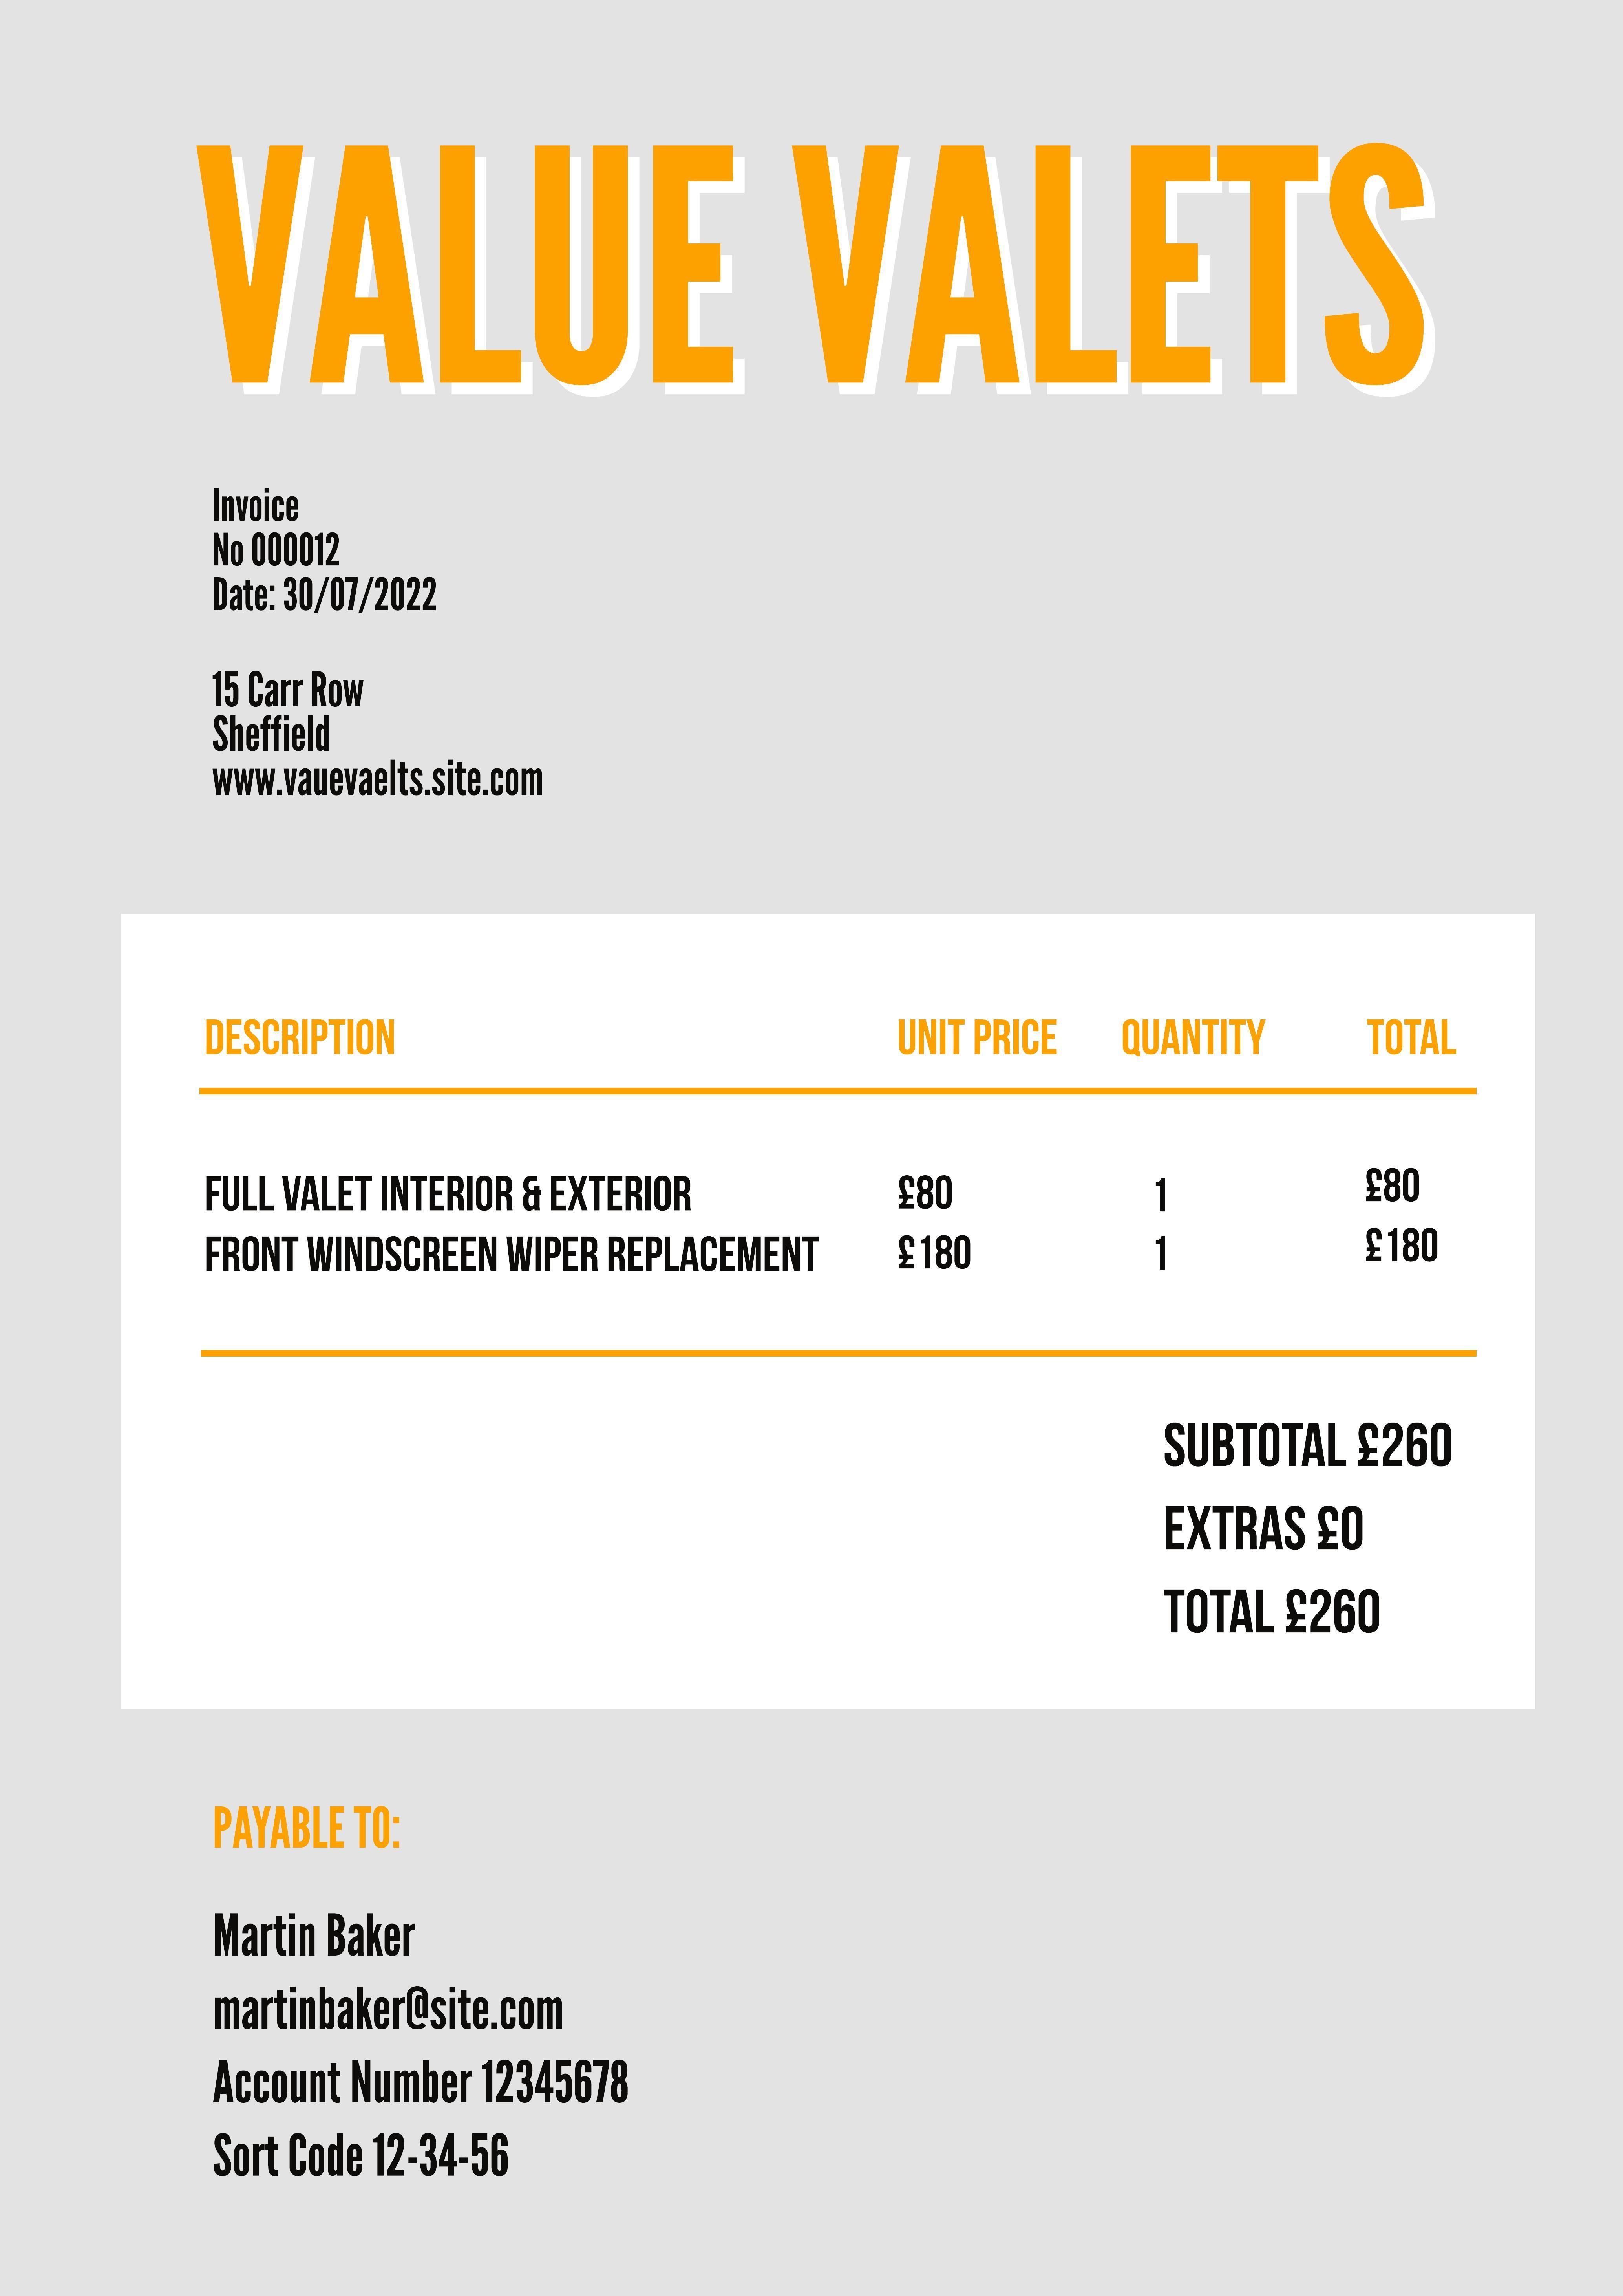ROI: (171, 1003, 1485, 1339), (179, 141, 1465, 421), (194, 1910, 651, 2213), (1146, 1398, 1459, 1662), (198, 471, 464, 640)
